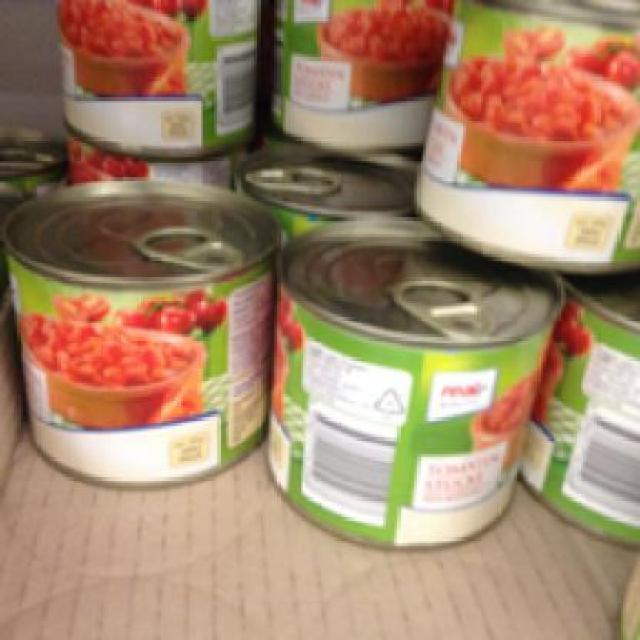Tomato Sauce: (271, 213, 560, 550), (2, 173, 275, 490), (405, 0, 638, 277), (51, 0, 258, 149)
